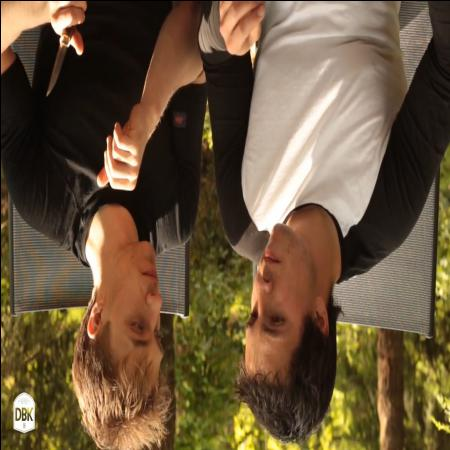long weapon: (39, 0, 84, 110)
